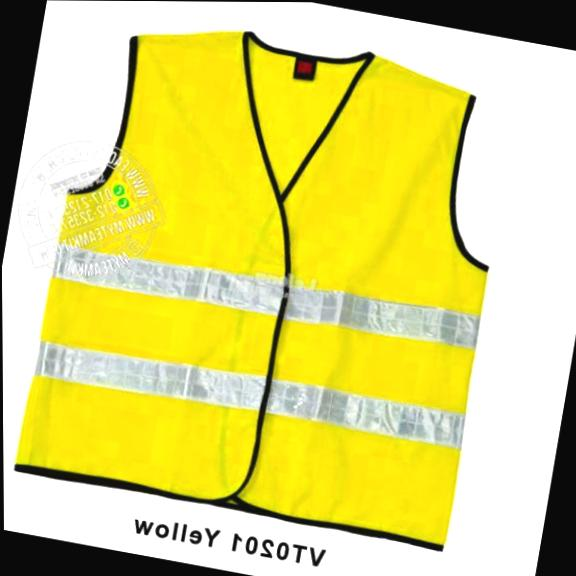safety_vest: (12, 0, 532, 555)
